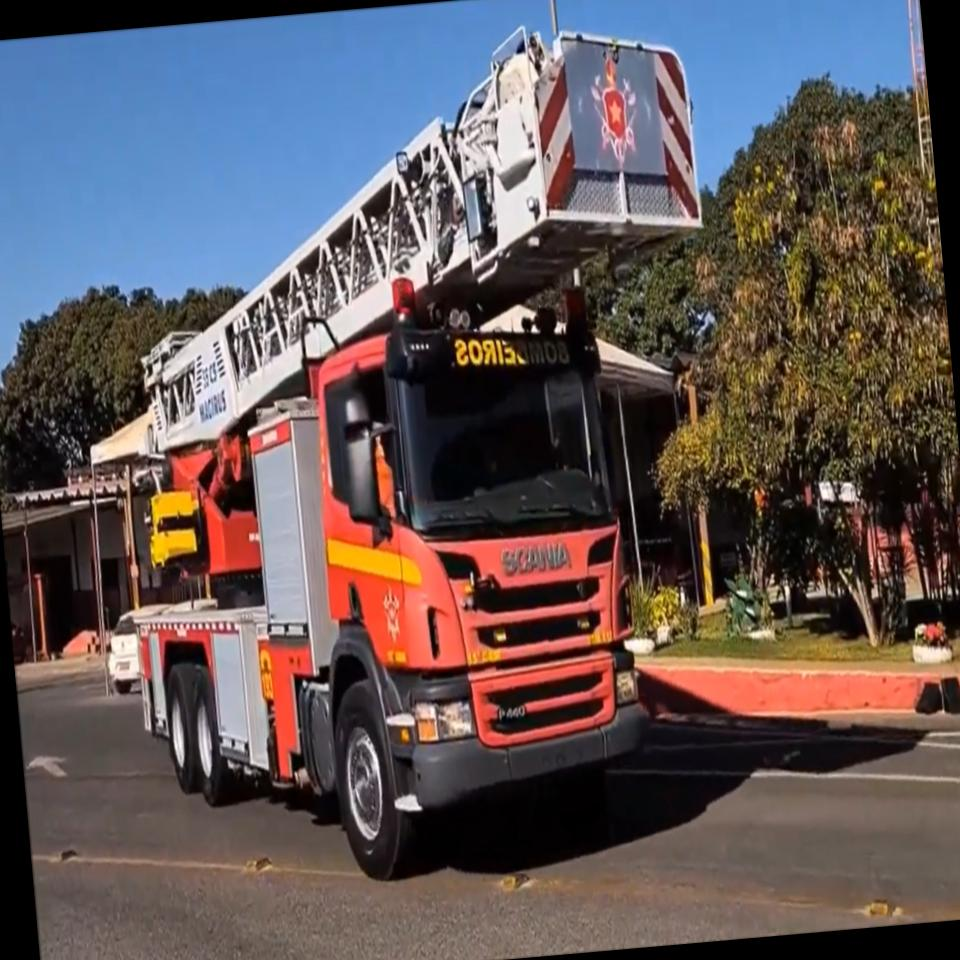viatura: (86, 8, 758, 900)
